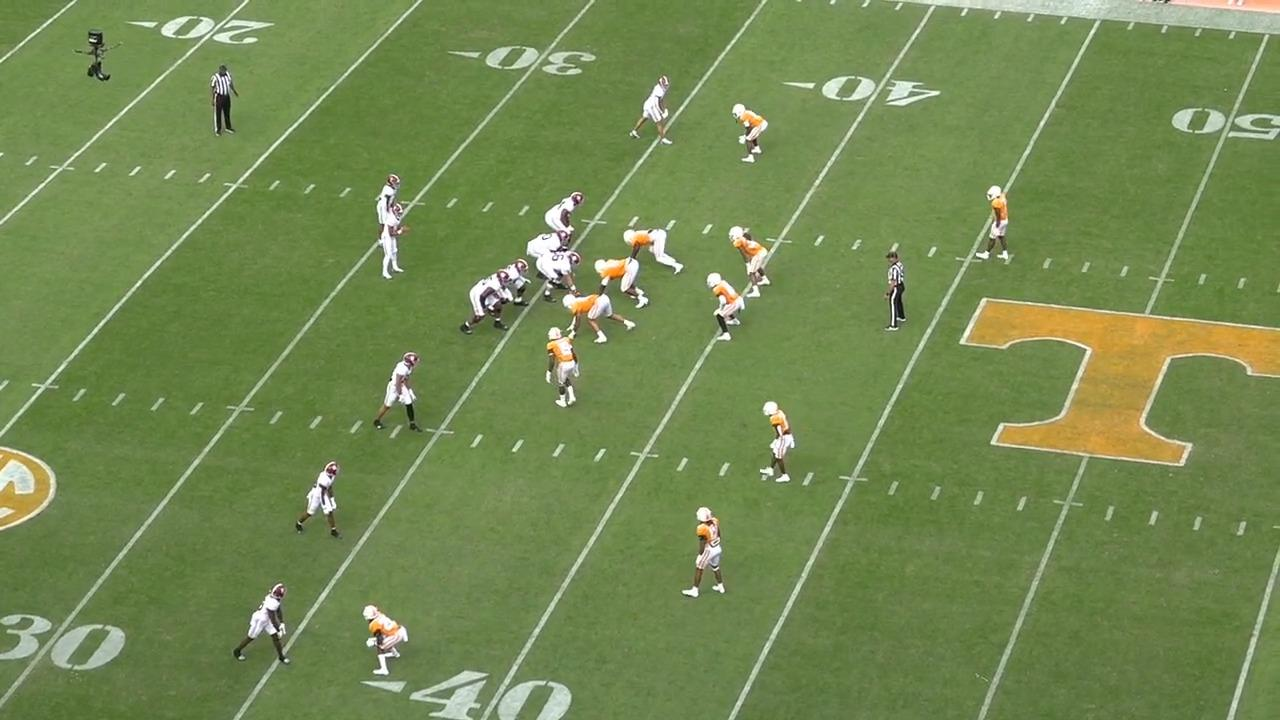player: (227, 581, 293, 672), (370, 348, 424, 434), (687, 501, 732, 600), (285, 460, 338, 544), (556, 291, 633, 348), (360, 602, 410, 682), (631, 70, 680, 149), (459, 270, 512, 336), (724, 222, 767, 300), (619, 226, 684, 277), (592, 257, 650, 313), (761, 400, 797, 487), (544, 327, 580, 413), (979, 182, 1015, 264), (726, 97, 767, 167), (711, 271, 749, 346), (541, 247, 588, 300), (372, 201, 402, 280), (526, 228, 576, 275), (493, 257, 535, 312), (370, 170, 397, 250), (543, 188, 586, 236)
ref: (878, 248, 908, 339), (209, 60, 241, 138)
